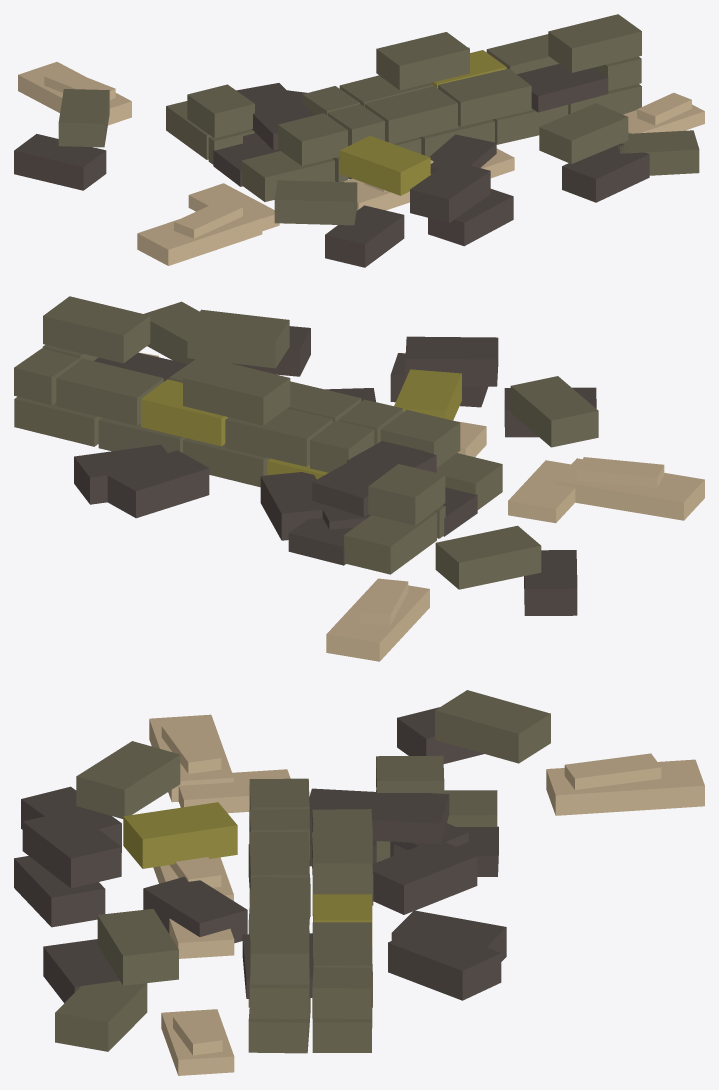
The model's file is SM_SacosRemate_v2_Irregular_e2_MuyDanado_LOD0.fbx.
3 views of the same model, one above another, from view 1: azimuth 30°, elevation 25°; view 2: azimuth 150°, elevation 25°; view 3: azimuth 270°, elevation 25° (orthographic). The views are drawn at different scales.
Parts seen in each view (by area): view 1: SM_sacos_piezas_v30_LOD0; view 2: SM_sacos_piezas_v30_LOD0; view 3: SM_sacos_piezas_v30_LOD0.
Boxes of the visible parts, left/top/right/bottom form: SM_sacos_piezas_v30_LOD0: left=14, top=14, right=704, bottom=267; SM_sacos_piezas_v30_LOD0: left=14, top=296, right=704, bottom=661; SM_sacos_piezas_v30_LOD0: left=14, top=690, right=704, bottom=1075.
Bounding box in the file's own units: 6.58 × 0.885 × 5.49.
